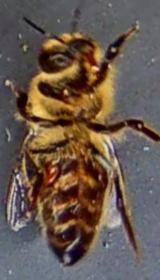varroa_mite: (44, 156, 64, 186)
